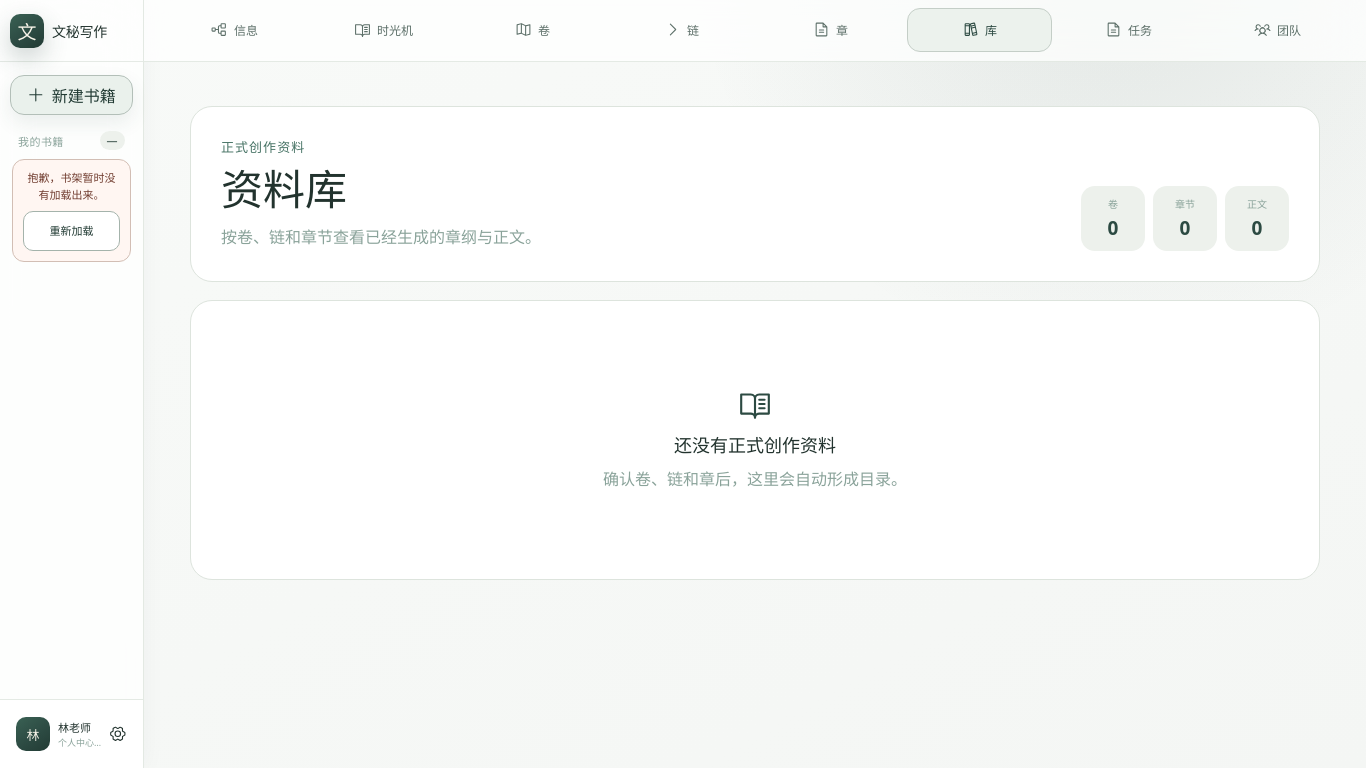
Test case: V7 author opening flow › keeps the selected book scope on a failed shelf request and retries in place
Expected: the message shows "抱歉，书架暂时没有加载出来。", [28,170,116,202]
Click the button "重新加载": [72, 231] box [23,211,120,251]
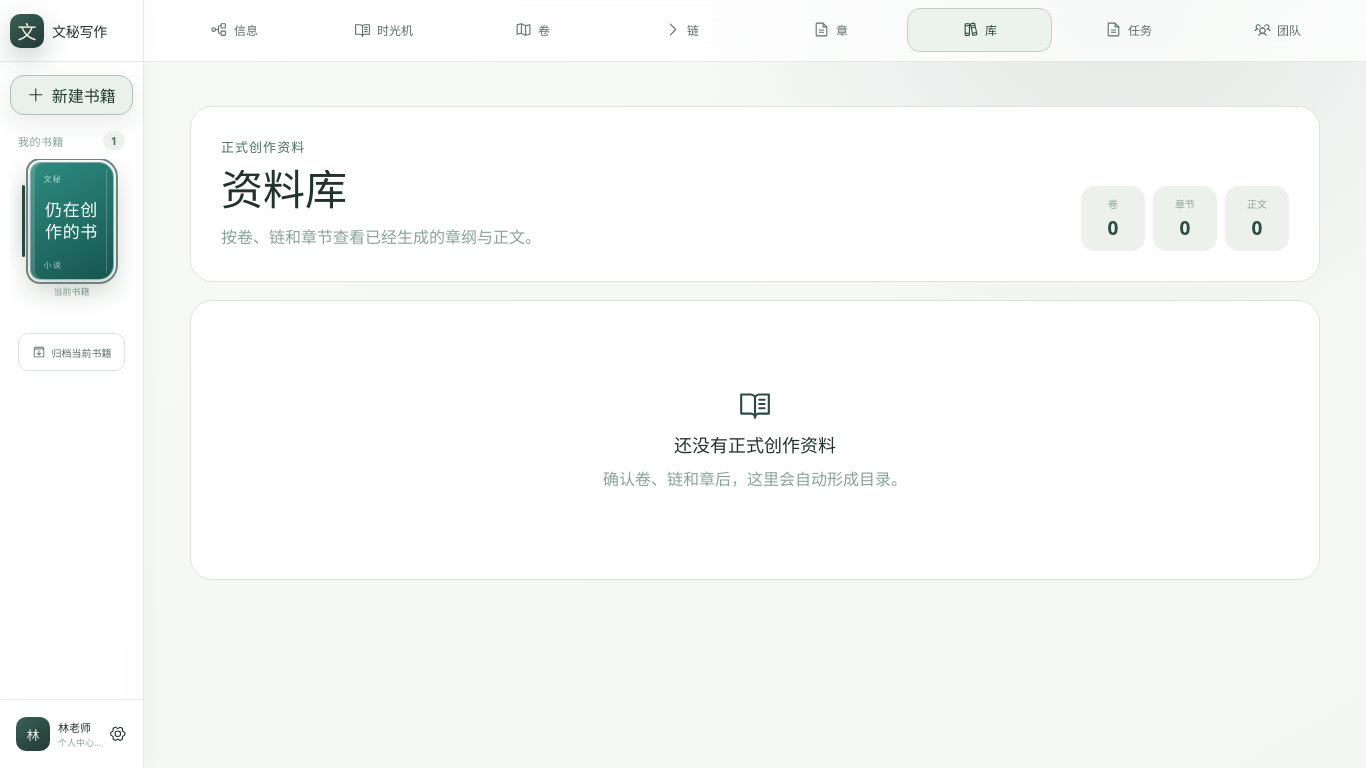
Expected: the button "文秘 仍在创作的书 小说 当前书籍" is shown, [30,162,114,312]
Expected: the message "抱歉，书架暂时没有加载出来。 重新加载" is gone
